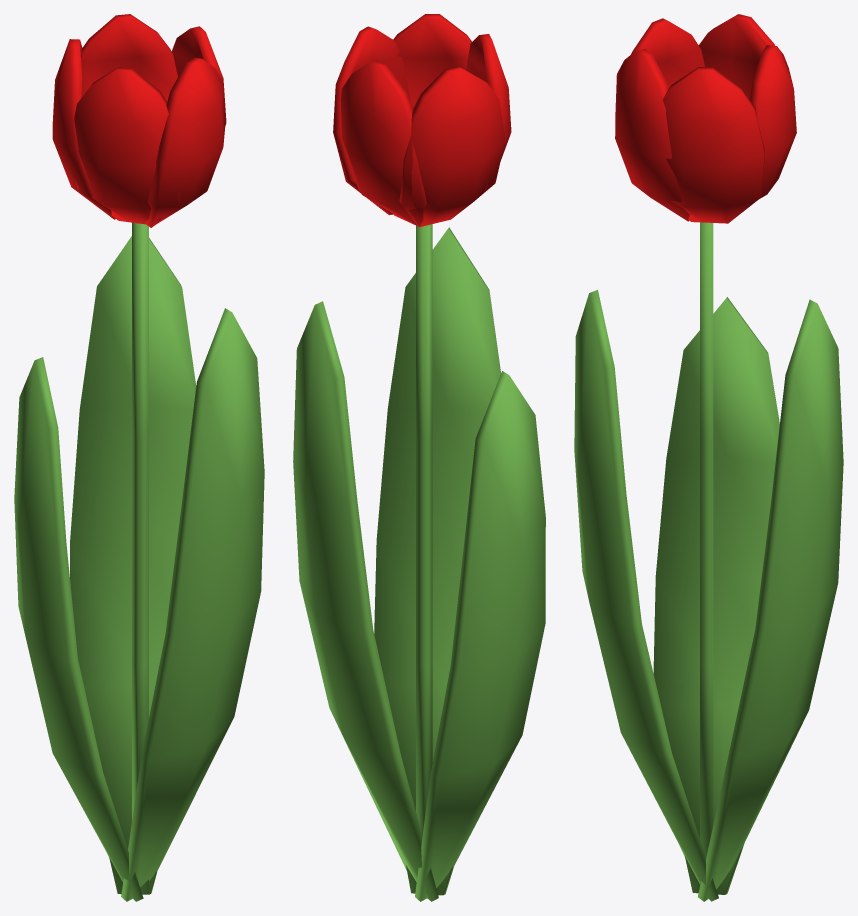
The model's file is TulipRed.fbx.
3 renders of one model, left to right at view 1: azimuth 30°, elevation 25°; view 2: azimuth 150°, elevation 25°; view 3: azimuth 270°, elevation 25°, orthographic.
Visible parts, largest first — view 1: TulipRed; view 2: TulipRed; view 3: TulipRed.
Part boxes in pixels (bbox=[...]): TulipRed: bbox=[14, 14, 264, 901]; TulipRed: bbox=[293, 14, 545, 901]; TulipRed: bbox=[574, 14, 843, 901].
Bounding box in the file's own units: 0.2666 × 1.05 × 0.2989.
